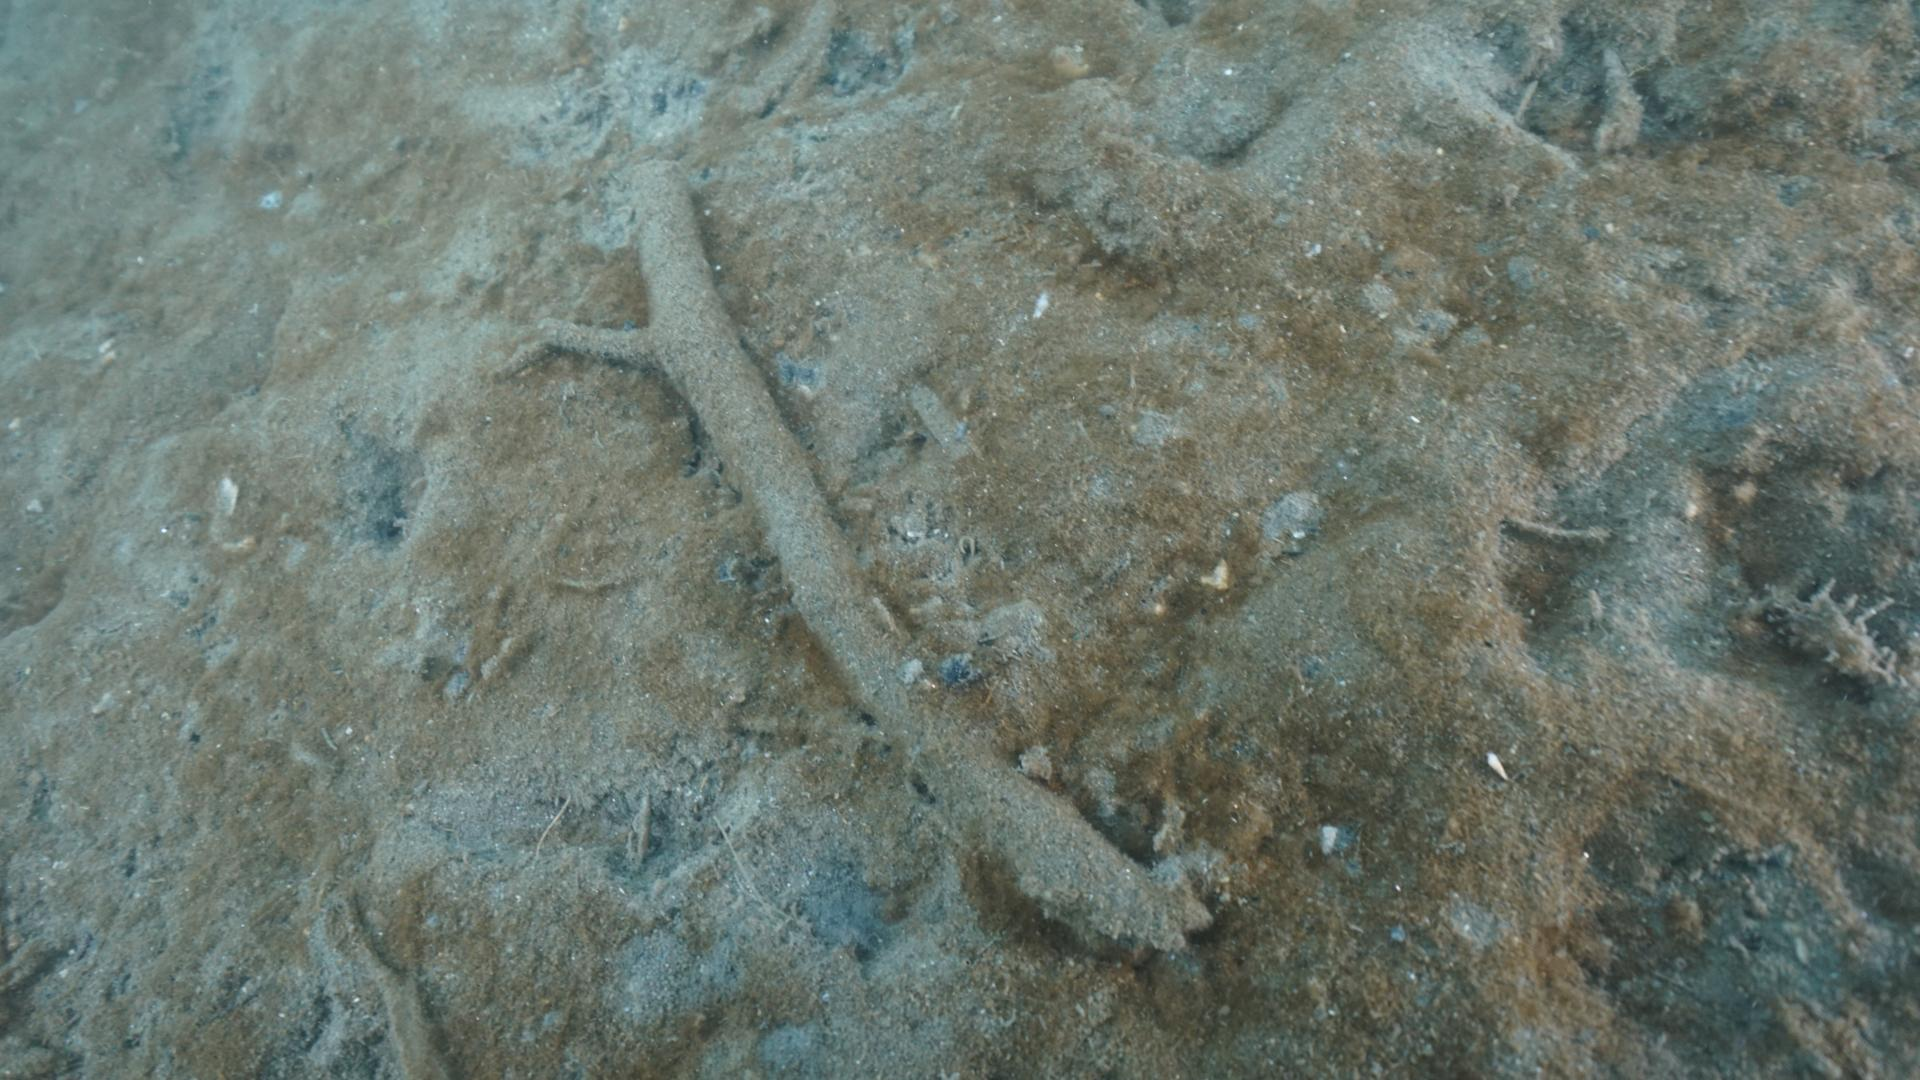wood: (531, 157, 1211, 947)
